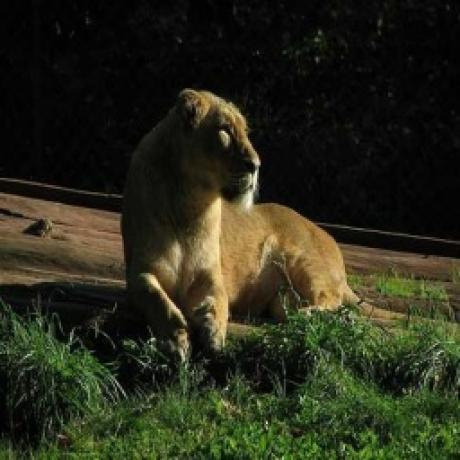Lion: (120, 84, 400, 362)
